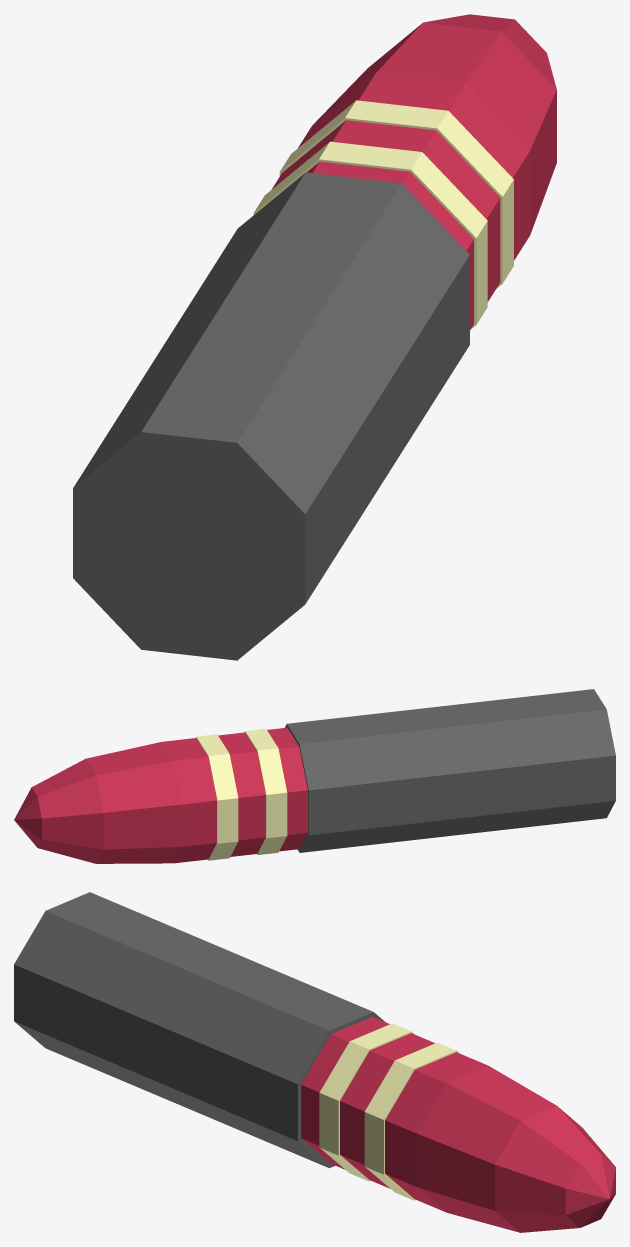
Rendered from ce_ammo2_rcl84_inc_a.obj.
3 renders of one model, top to bottom at view 1: azimuth 30°, elevation 25°; view 2: azimuth 150°, elevation 25°; view 3: azimuth 270°, elevation 25°, orthographic. The views are drawn at different scales.
Visible parts, largest first — view 1: ce_ammo2_rcl84_inc_a_0, ce_ammo2_rcl84_inc_a_6, ce_ammo2_rcl84_inc_a_5, ce_ammo2_rcl84_inc_a_3, ce_ammo2_rcl84_inc_a_4, ce_ammo2_rcl84_inc_a_2, ce_ammo2_rcl84_inc_a_1, ce_ammo2_rcl84_inc_a_7; view 2: ce_ammo2_rcl84_inc_a_0, ce_ammo2_rcl84_inc_a_6, ce_ammo2_rcl84_inc_a_7, ce_ammo2_rcl84_inc_a_5, ce_ammo2_rcl84_inc_a_3, ce_ammo2_rcl84_inc_a_4, ce_ammo2_rcl84_inc_a_2, ce_ammo2_rcl84_inc_a_1, ce_ammo2_rcl84_inc_a_8; view 3: ce_ammo2_rcl84_inc_a_0, ce_ammo2_rcl84_inc_a_6, ce_ammo2_rcl84_inc_a_7, ce_ammo2_rcl84_inc_a_5, ce_ammo2_rcl84_inc_a_3, ce_ammo2_rcl84_inc_a_2, ce_ammo2_rcl84_inc_a_4, ce_ammo2_rcl84_inc_a_1, ce_ammo2_rcl84_inc_a_8.
Part boxes in pixels (<box>): ce_ammo2_rcl84_inc_a_0: <box>73,172,469,660</box>; ce_ammo2_rcl84_inc_a_6: <box>313,22,556,234</box>; ce_ammo2_rcl84_inc_a_5: <box>298,73,530,260</box>; ce_ammo2_rcl84_inc_a_3: <box>271,120,500,301</box>; ce_ammo2_rcl84_inc_a_4: <box>279,100,513,288</box>; ce_ammo2_rcl84_inc_a_2: <box>253,141,487,329</box>; ce_ammo2_rcl84_inc_a_1: <box>307,161,473,329</box>; ce_ammo2_rcl84_inc_a_7: <box>423,14,556,89</box>; ce_ammo2_rcl84_inc_a_0: <box>285,689,615,852</box>; ce_ammo2_rcl84_inc_a_6: <box>86,742,182,863</box>; ce_ammo2_rcl84_inc_a_7: <box>32,759,103,863</box>; ce_ammo2_rcl84_inc_a_5: <box>162,738,216,863</box>; ce_ammo2_rcl84_inc_a_3: <box>218,732,265,856</box>; ce_ammo2_rcl84_inc_a_4: <box>196,734,238,860</box>; ce_ammo2_rcl84_inc_a_2: <box>245,729,287,854</box>; ce_ammo2_rcl84_inc_a_1: <box>267,727,307,851</box>; ce_ammo2_rcl84_inc_a_8: <box>14,787,41,847</box>; ce_ammo2_rcl84_inc_a_0: <box>14,892,384,1168</box>; ce_ammo2_rcl84_inc_a_6: <box>417,1066,556,1232</box>; ce_ammo2_rcl84_inc_a_7: <box>495,1105,614,1232</box>; ce_ammo2_rcl84_inc_a_5: <box>385,1052,488,1212</box>; ce_ammo2_rcl84_inc_a_3: <box>340,1033,434,1188</box>; ce_ammo2_rcl84_inc_a_2: <box>319,1023,414,1181</box>; ce_ammo2_rcl84_inc_a_4: <box>364,1042,460,1200</box>; ce_ammo2_rcl84_inc_a_1: <box>301,1016,389,1169</box>; ce_ammo2_rcl84_inc_a_8: <box>565,1154,615,1227</box>.
Size of the model in its own units: 0.6596 by 0.1662 by 0.6596.
